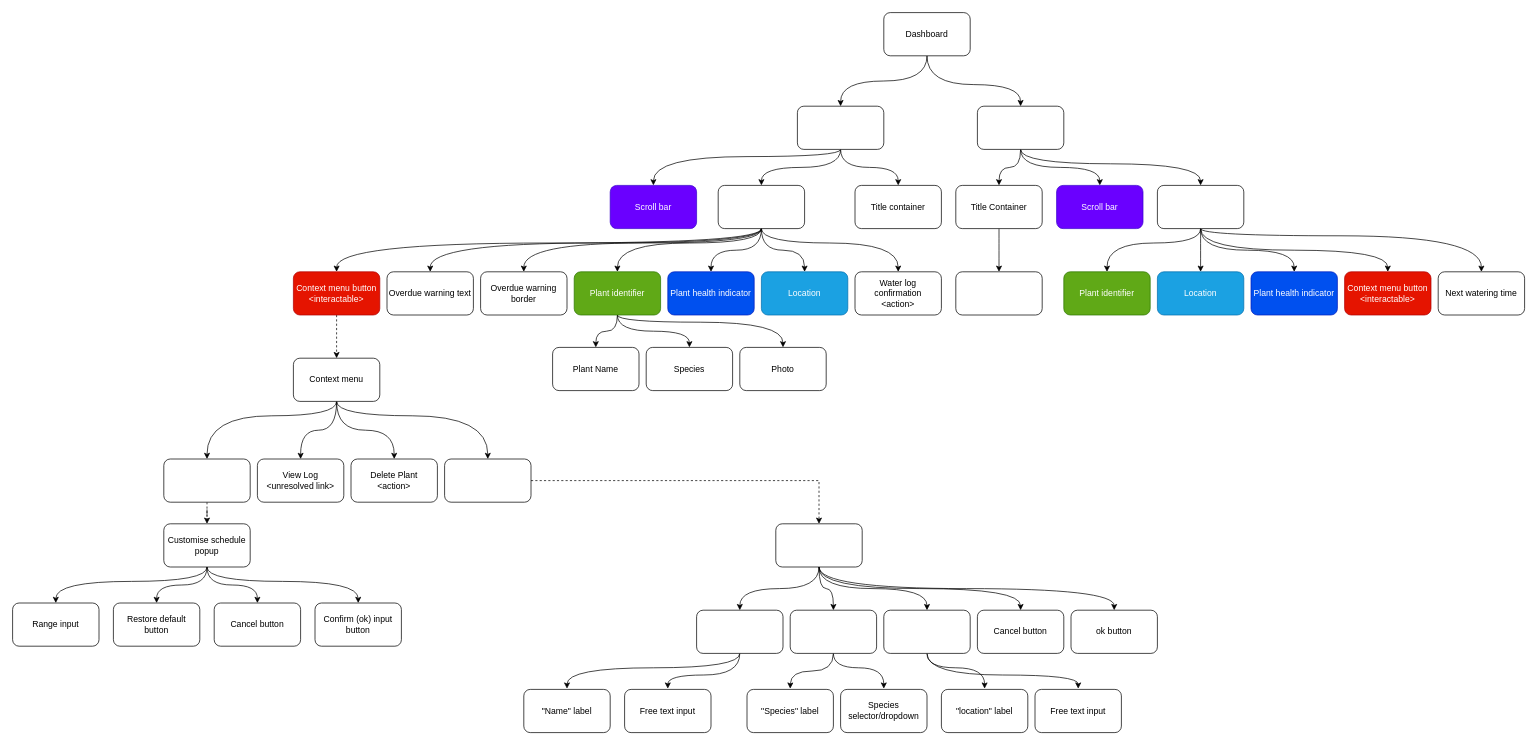
This 1537x745 diagram has some shape labels left out. Each missing label, with the centre of its shape:
"My Plants" list: pixel 1020 127
"Water Today" list: pixel 840 127
Add new plant <unresolved link>: pixel 998 293
Customise schedule <link>: pixel 206 480
Edit Properties <link>: pixel 487 480
Edit properties popup: pixel 818 545
Location field: pixel 926 631
Name field: pixel 739 631
Plant list item: pixel 1200 207
Species field: pixel 833 631
Water list item: pixel 761 207
